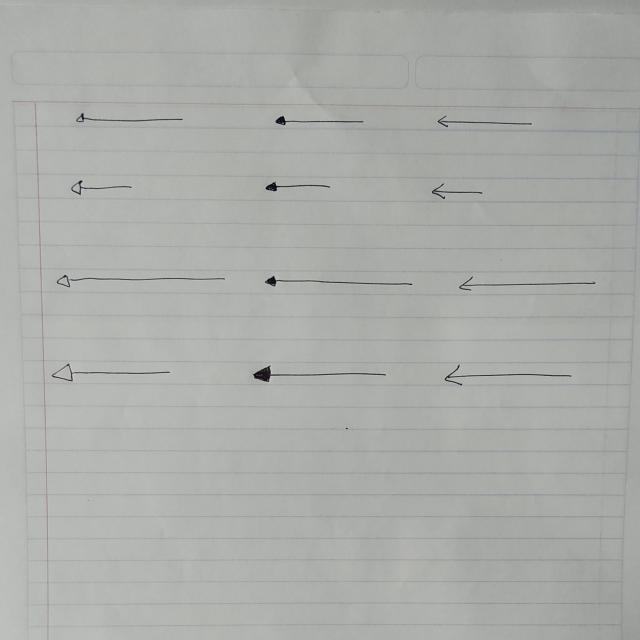arrow_line_left: (442, 363, 574, 390), (250, 362, 389, 387), (54, 272, 228, 291), (49, 361, 170, 387), (263, 273, 416, 292), (456, 274, 598, 293), (436, 113, 534, 133), (74, 111, 184, 126), (274, 113, 366, 129), (69, 178, 135, 196), (429, 182, 486, 202), (263, 178, 331, 194)
